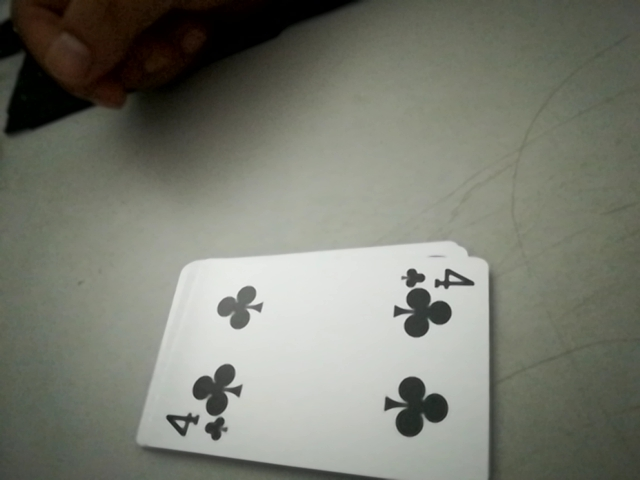mh 4: (154, 405, 231, 450), (402, 259, 477, 293)
